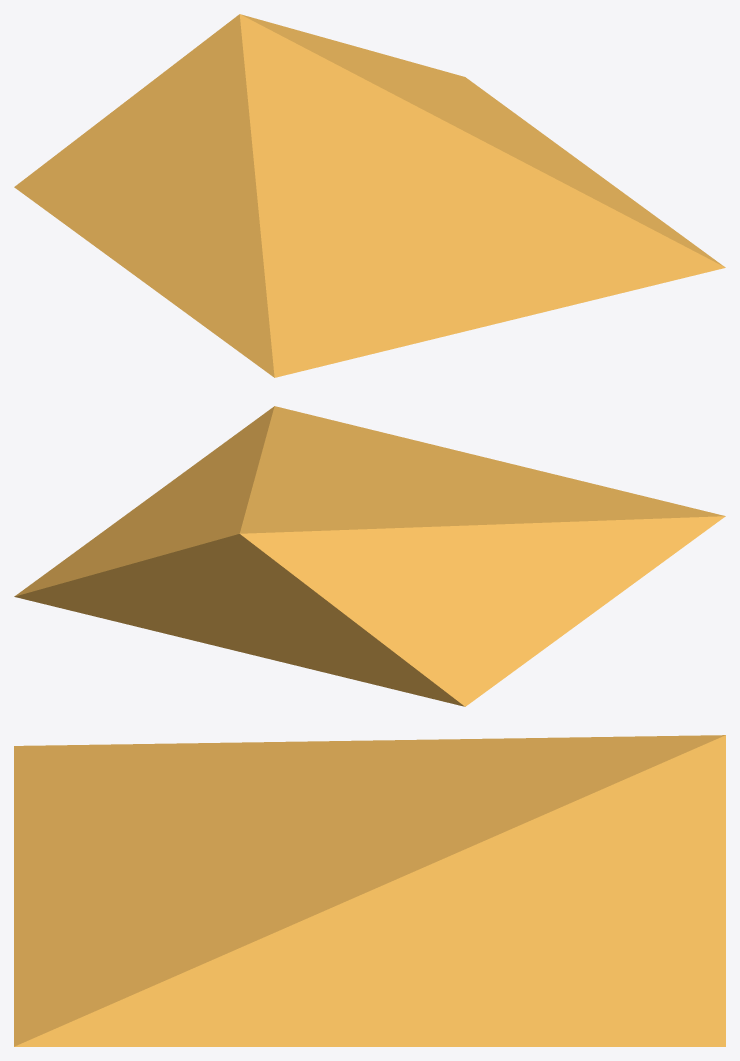
The model's file is Roof-Shallow-4x4x1-Hip-End.FBX.
3 views of the same model, one above another, from view 1: azimuth 30°, elevation 25°; view 2: azimuth 150°, elevation 25°; view 3: azimuth 270°, elevation 25° (orthographic). The views are drawn at different scales.
Visible parts, largest first — view 1: Roof-Shallow-4x4x1-Hip-End; view 2: Roof-Shallow-4x4x1-Hip-End; view 3: Roof-Shallow-4x4x1-Hip-End.
Boxes of the visible parts, x1,y1,x2,y2 form: Roof-Shallow-4x4x1-Hip-End: (14, 14, 725, 377); Roof-Shallow-4x4x1-Hip-End: (14, 406, 725, 706); Roof-Shallow-4x4x1-Hip-End: (14, 735, 725, 1046).
Size of the model in its own units: 40 by 40 by 10.
